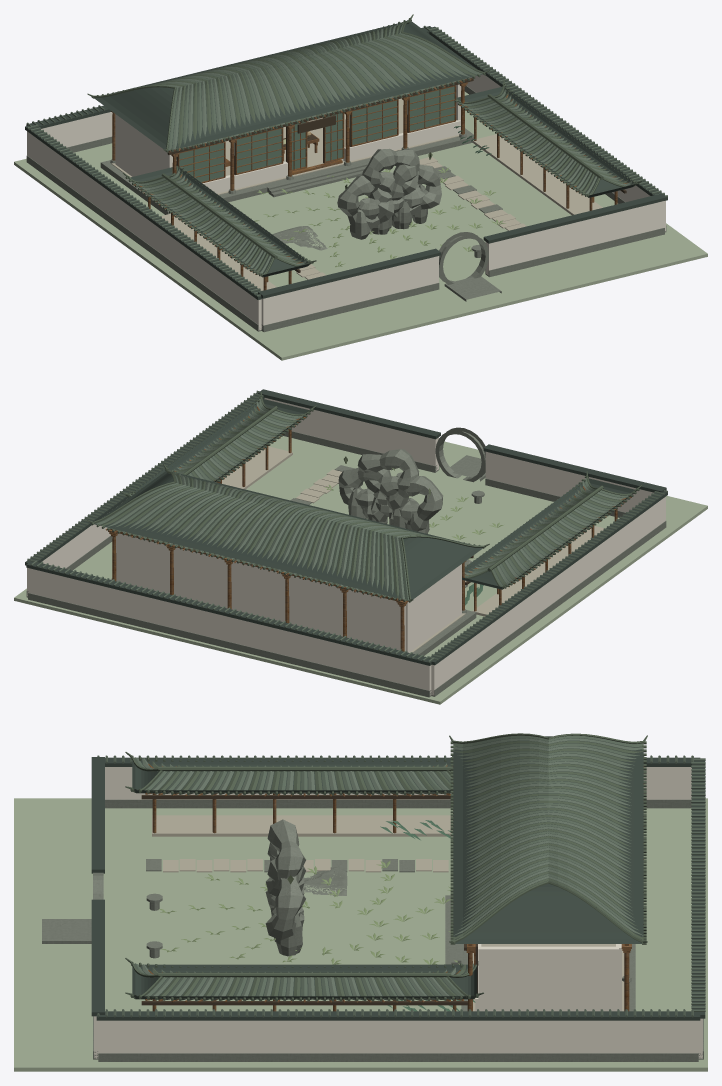
Rendered from public_models_places_hengwuyuan.glb.
3 renders of one model, top to bottom at view 1: azimuth 30°, elevation 25°; view 2: azimuth 150°, elevation 25°; view 3: azimuth 270°, elevation 25°, orthographic. The views are drawn at different scales.
Parts seen in each view (by area): view 1: hengwuyuan_earth, hengwuyuan_roof, hengwuyuan_plaster, hengwuyuan_stone, hengwuyuan_tile, hengwuyuan_tiledark, hengwuyuan_tilelight, hengwuyuan_paving, hengwuyuan_screen, hengwuyuan_wood, hengwuyuan_darkwood, hengwuyuan_lightleaf (+1 smaller); view 2: hengwuyuan_plaster, hengwuyuan_roof, hengwuyuan_earth, hengwuyuan_stone, hengwuyuan_tile, hengwuyuan_tiledark, hengwuyuan_tilelight, hengwuyuan_paving, hengwuyuan_wood; view 3: hengwuyuan_earth, hengwuyuan_roof, hengwuyuan_plaster, hengwuyuan_tiledark, hengwuyuan_tile, hengwuyuan_stone, hengwuyuan_tilelight, hengwuyuan_paving, hengwuyuan_darkwood, hengwuyuan_wood, hengwuyuan_lightleaf, PolyHaven_coast_rocks_02.003.
Part boxes in pixels (box(x1,y1,x2,y2)): hengwuyuan_earth: box(14, 91, 707, 360); hengwuyuan_roof: box(25, 21, 667, 299); hengwuyuan_plaster: box(27, 74, 665, 330); hengwuyuan_stone: box(26, 86, 666, 332); hengwuyuan_tile: box(26, 20, 667, 296); hengwuyuan_tiledark: box(87, 14, 642, 276); hengwuyuan_tilelight: box(101, 23, 632, 273); hengwuyuan_paving: box(111, 98, 602, 290); hengwuyuan_screen: box(176, 86, 454, 181); hengwuyuan_wood: box(111, 78, 628, 290); hengwuyuan_darkwood: box(167, 78, 626, 272); hengwuyuan_lightleaf: box(255, 167, 505, 267); hengwuyuan_plaster: box(27, 398, 665, 695); hengwuyuan_roof: box(25, 389, 667, 665); hengwuyuan_earth: box(14, 436, 707, 704); hengwuyuan_stone: box(26, 427, 666, 697); hengwuyuan_tile: box(27, 390, 667, 662); hengwuyuan_tiledark: box(87, 392, 642, 602); hengwuyuan_tilelight: box(105, 401, 633, 599); hengwuyuan_paving: box(222, 446, 603, 652); hengwuyuan_wood: box(105, 406, 631, 651); hengwuyuan_earth: box(14, 798, 707, 1071); hengwuyuan_roof: box(91, 736, 705, 1020); hengwuyuan_plaster: box(94, 767, 702, 1058); hengwuyuan_tiledark: box(125, 733, 647, 1001); hengwuyuan_tile: box(97, 735, 705, 1017); hengwuyuan_stone: box(42, 799, 703, 1061); hengwuyuan_tilelight: box(141, 738, 643, 1000); hengwuyuan_paving: box(152, 815, 624, 1011); hengwuyuan_darkwood: box(141, 795, 477, 1005); hengwuyuan_wood: box(145, 763, 643, 1011); hengwuyuan_lightleaf: box(158, 860, 459, 964); PolyHaven_coast_rocks_02.003: box(304, 866, 347, 895).
Size of the model in its own units: 34 by 8.17 by 37.
Materials: 18 (2 with a texture image).
